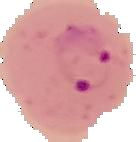parasitized: (40, 20, 117, 92)
